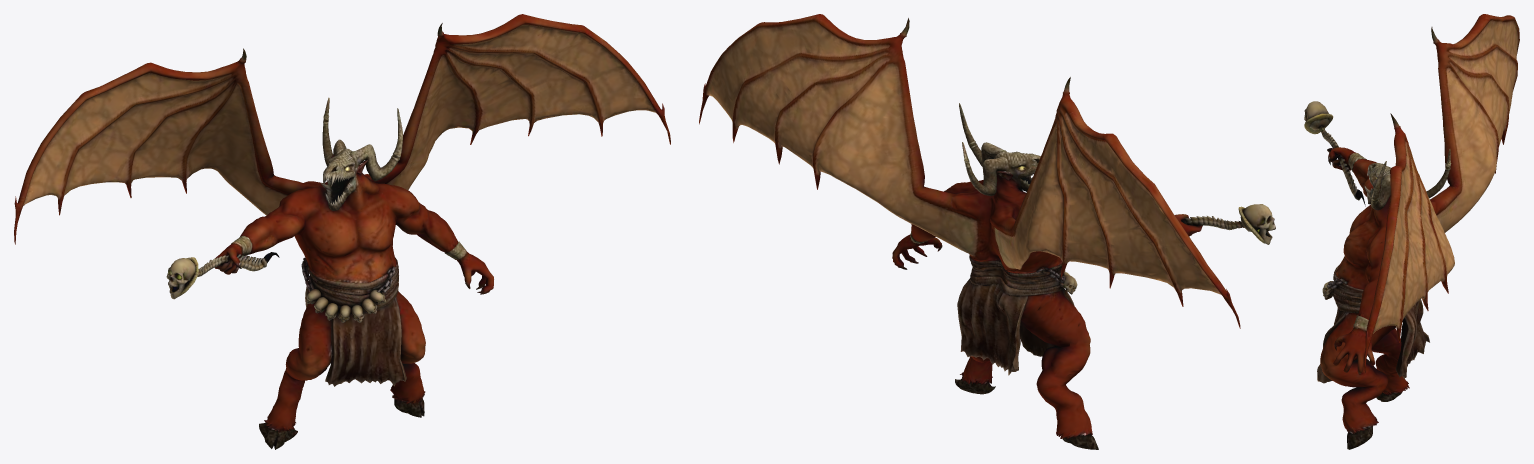
The model's file is MZ4250 - Orcus.glb.
3 renders of one model, left to right at view 1: azimuth 30°, elevation 25°; view 2: azimuth 150°, elevation 25°; view 3: azimuth 270°, elevation 25°, orthographic. The views are drawn at different scales.
Visible parts, largest first — view 1: Body.002; view 2: Body.002; view 3: Body.002.
Part boxes in pixels (left/top/right/bottom): Body.002: left=14, top=14, right=670, bottom=449; Body.002: left=699, top=14, right=1275, bottom=449; Body.002: left=1304, top=14, right=1519, bottom=449.
Size of the model in its own units: 4.83 by 2.99 by 1.58.
Materials: 1 (1 with a texture image).
